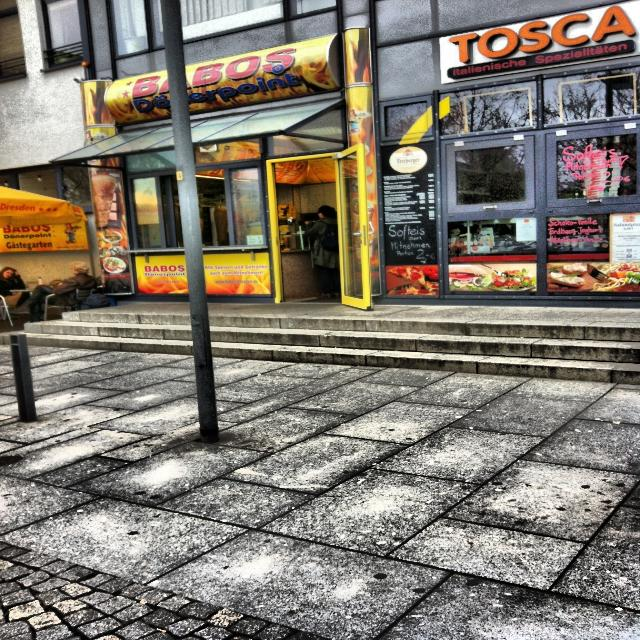escada: (12, 312, 640, 385)
